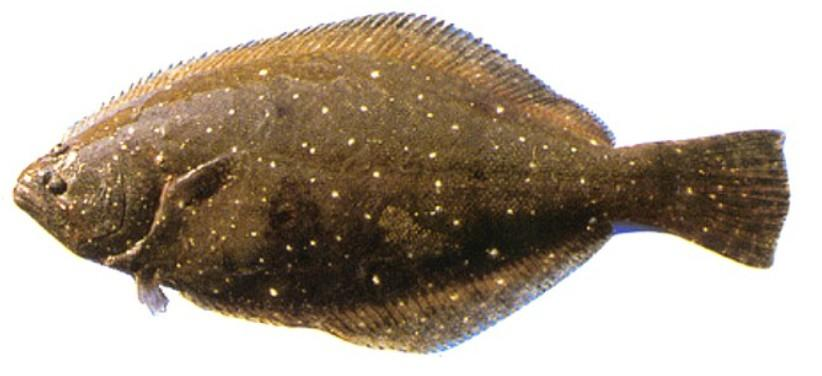fish: (11, 12, 792, 355)
